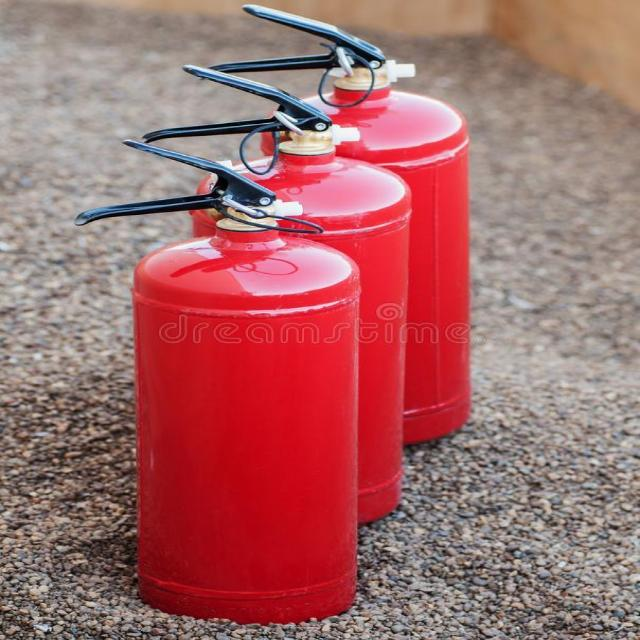fire_extinguisher: (68, 136, 365, 627), (130, 62, 416, 530), (188, 1, 480, 451)
